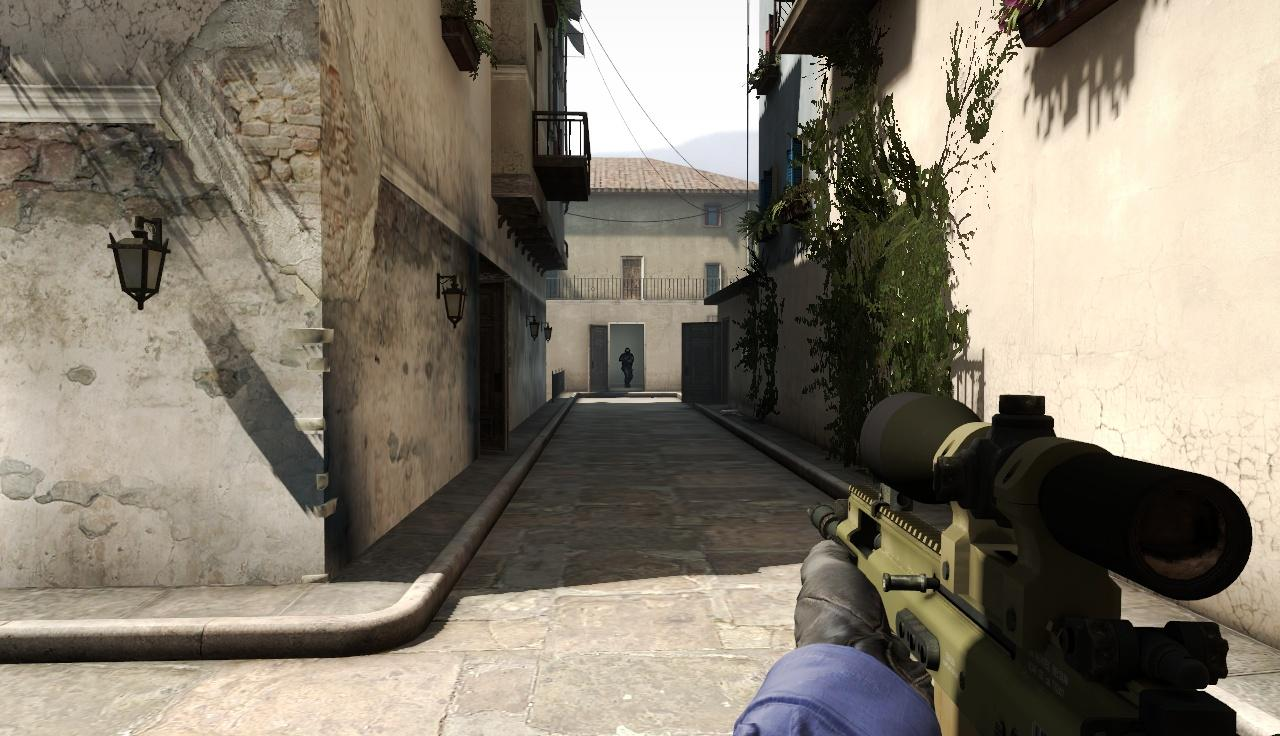ct: (621, 348, 634, 388)
cthead: (624, 347, 630, 353)
sniper: (805, 388, 1243, 736)
